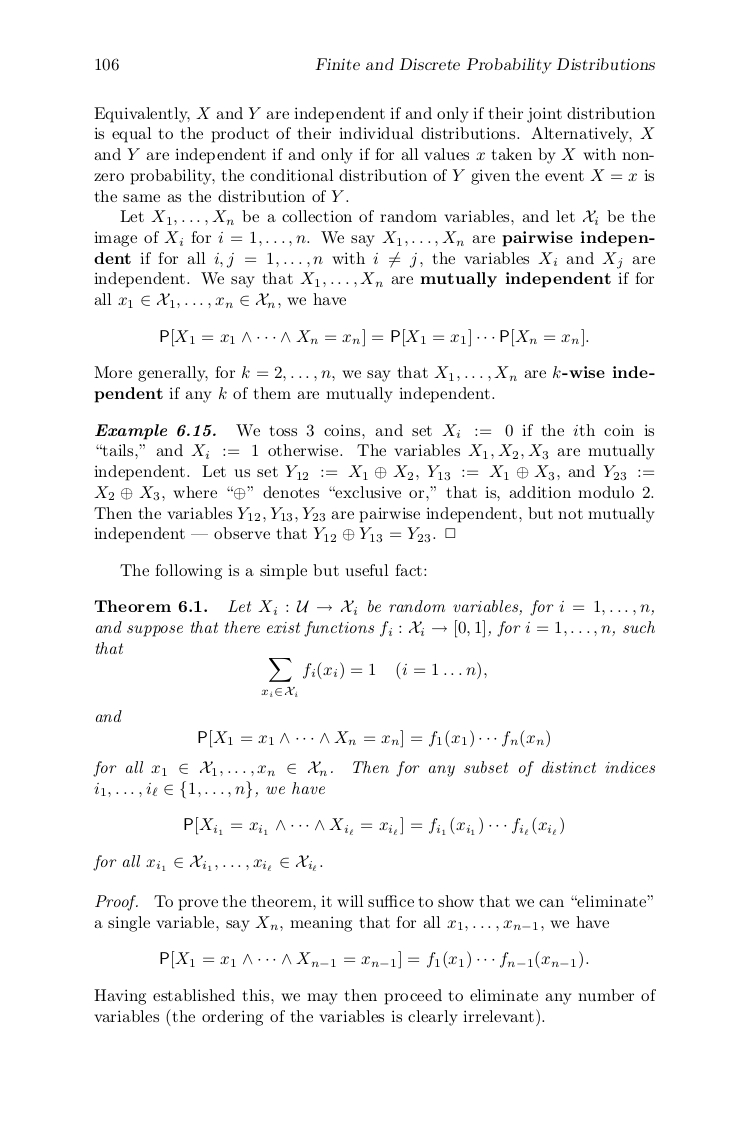formula: (261, 658, 486, 696), (160, 328, 588, 347), (160, 950, 588, 969), (184, 816, 563, 835), (198, 729, 549, 748)
